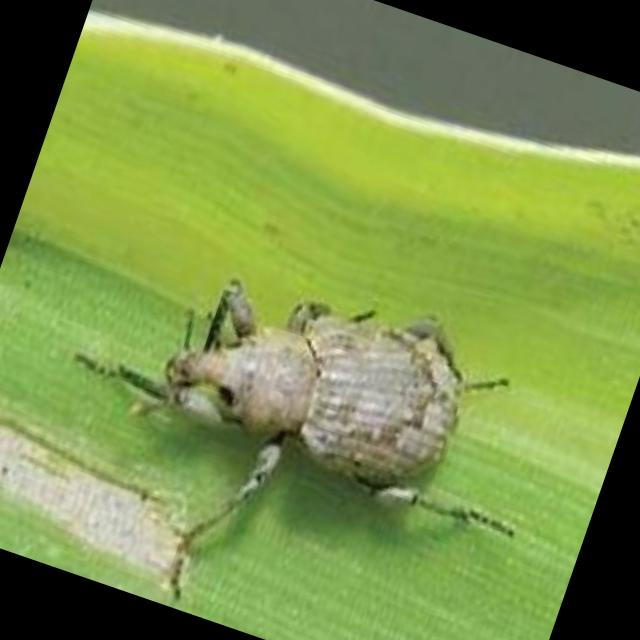rice-bug: (97, 211, 550, 640)
